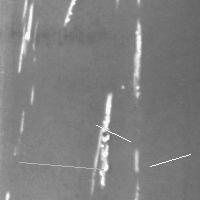scratches: (88, 91, 114, 190), (14, 157, 108, 174), (14, 1, 34, 73), (91, 120, 135, 146), (129, 18, 143, 97), (145, 149, 195, 171), (130, 149, 142, 198), (61, 1, 77, 26)
